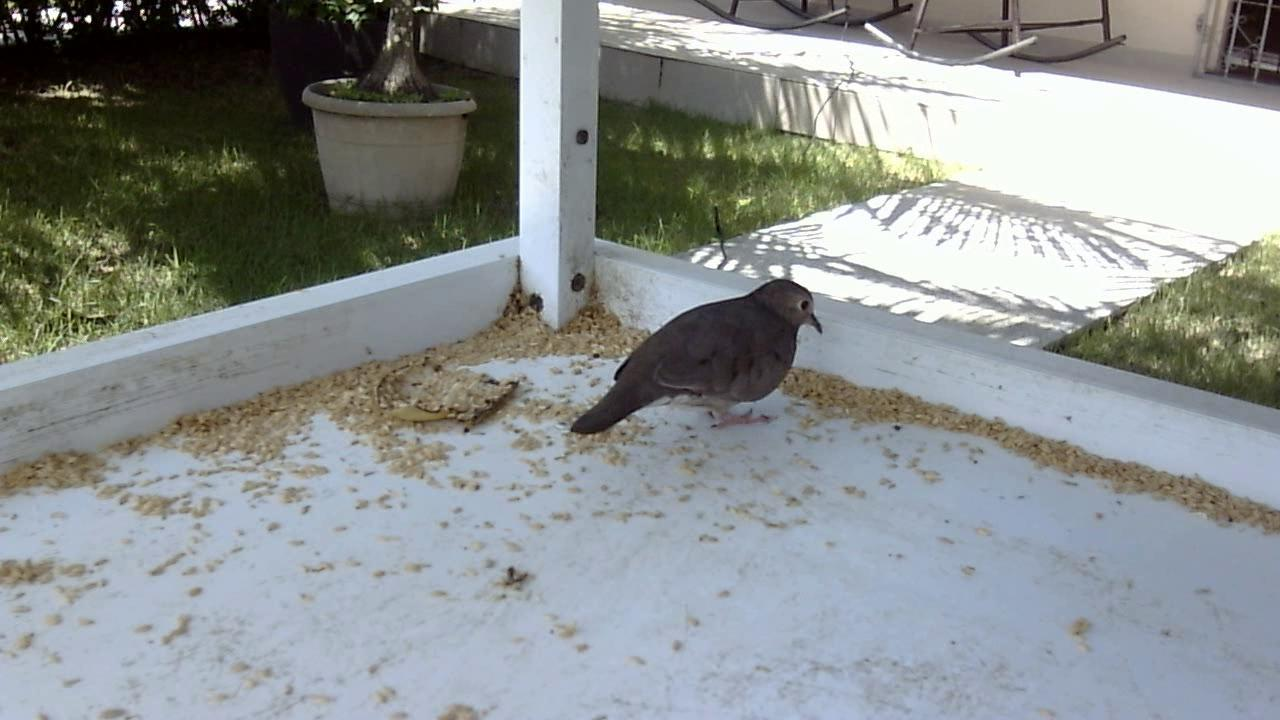rolinha: (561, 267, 829, 450)
